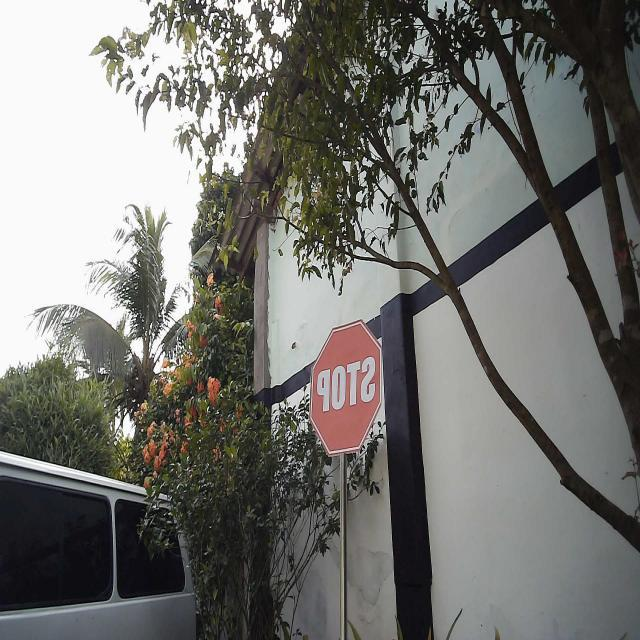stop: (308, 316, 384, 460)
